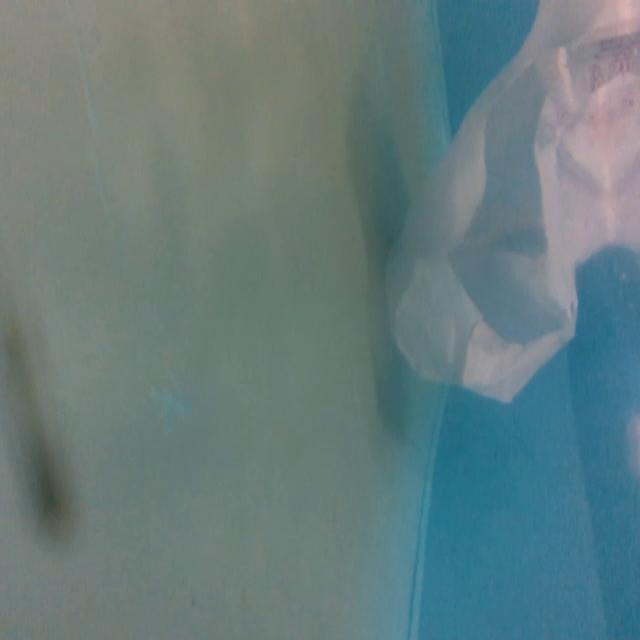plastic bags: (373, 4, 638, 406)
